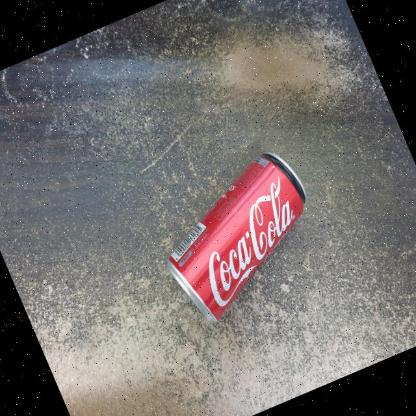Can: (169, 142, 311, 320)
